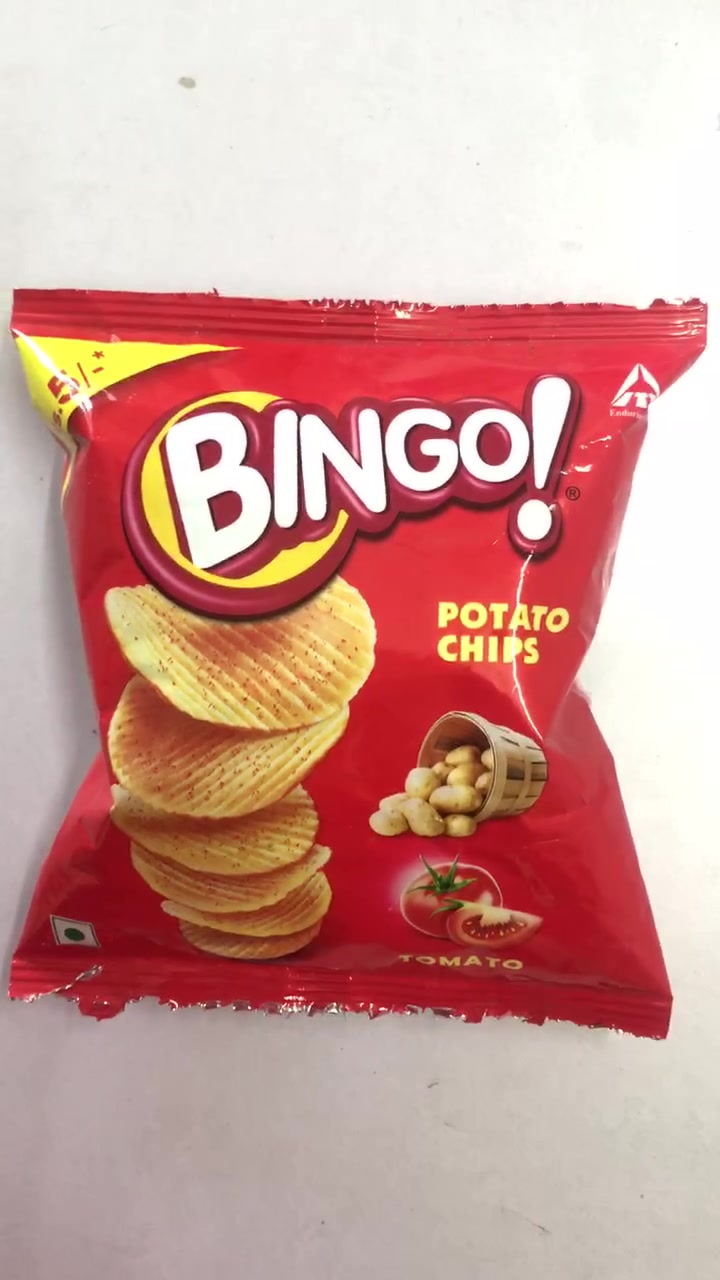Bingo: (3, 292, 678, 1037)
